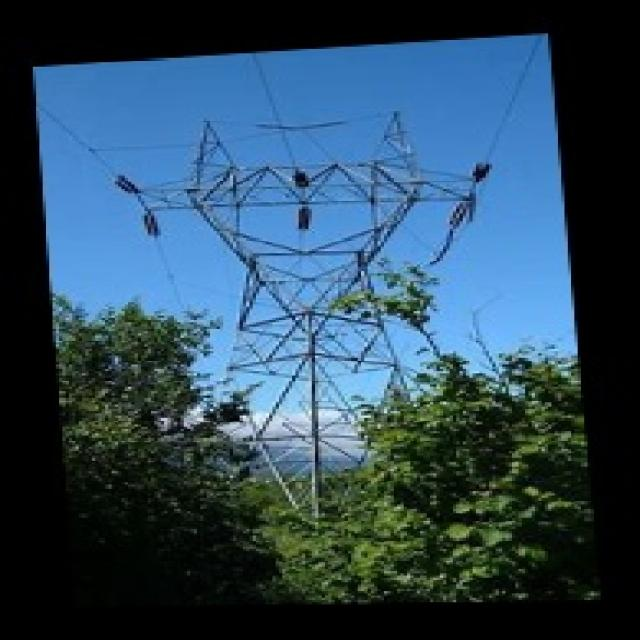utility poles: (131, 302, 286, 477), (314, 268, 514, 402)
